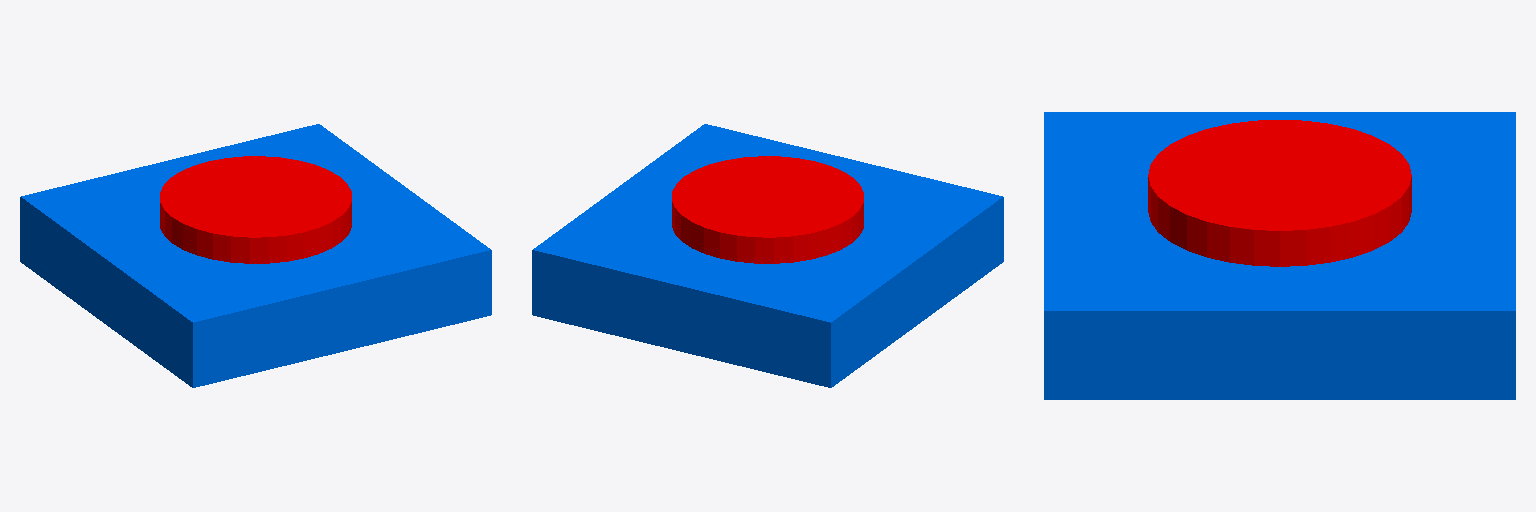
The robot description file, URDF, robot "blue_button":
<?xml version="1.0"?>
<robot name="blue_button">
    <link name="robot_base">
        <visual name="push_buttons_target2">
            <origin xyz="0 0 0.010500" rpy="-3.141593 3.141593 -3.141593" />
            <geometry>
                <box size="0.100000 0.100000 0.021000" />
            </geometry>
            <material name="robot_base_material">
                <color rgba="0.000000 0.500000 1.000000 1.0" />
            </material>
        </visual>
    </link>
    <joint type="prismatic" name="blue_joint">
        <axis xyz="0 0 1" />
        <limit velocity="10.0" upper="0.002" effort="250.0" lower="-0.008" />
        <parent link="robot_base" />
        <child link="blue_top" />
        <origin xyz="0 0 -0.010519" rpy="-3.141593 3.141593 -3.141593" />
    </joint>
    <link name="blue_top">
        <inertial>
            <origin rpy="-3.141593 3.141593 -3.141593" xyz="0.000000 0.000000 0.037950" />
            <inertia ixx="1.3361750093067e-05" ixy="-1.7668542498804e-21" izz="2.6688580837659e-05" iyz="-1.9742168545736e-13" iyy="1.3361752087318e-05" ixz="9.9680512074237e-14" />
            <mass value="0.068521969020367" />
        </inertial>
        <collision name="target_button_topPlate2">
            <origin xyz="0.000000 0.000000 0.037950" rpy="-3.141593 3.141593 -3.141593" />
            <geometry>
                <cylinder radius="0.028000000864267" length="0.0017499999376014" />
            </geometry>
        </collision>
        <visual name="target_button_topPlate2">
            <origin xyz="0.000000 0.000000 0.037950" rpy="-3.141593 3.141593 -3.141593" />
            <geometry>
                <cylinder radius="0.028000000864267" length="0.0017499999376014" />
            </geometry>
            <material name="target_button_topPlate2_material">
                <color rgba="1.000000 0.000000 0.000000 1.0" />
            </material>
        </visual>
        <visual name="target_button_wrap2">
            <origin xyz="0.000000 0.000000 0.034919" rpy="-3.141593 3.141593 -3.141593" />
            <geometry>
                <cylinder radius="0.028000000864267" length="0.0099999997764826" />
            </geometry>
            <material name="target_button_wrap2_material">
                <color rgba="1.000000 0.000000 0.000000 1.0" />
            </material>
        </visual>
    </link>
</robot>

--- Facts derived from the render (not from the file) ---
Views: 3 orthographic renders of the robot side by side, from view 1: azimuth 30°, elevation 25°; view 2: azimuth 150°, elevation 25°; view 3: azimuth 270°, elevation 25°.
Robot: blue_button — 2 links, 1 joints (1 prismatic); root link robot_base; default pose: every joint at zero.
Visible links, largest first — view 1: robot_base, blue_top; view 2: robot_base, blue_top; view 3: robot_base, blue_top.
Link boxes in pixels (x1,y1,x2,y2): robot_base: (20, 124, 491, 387); blue_top: (160, 156, 351, 263); robot_base: (532, 124, 1003, 387); blue_top: (672, 156, 863, 263); robot_base: (1044, 112, 1515, 399); blue_top: (1148, 120, 1411, 266).
Size in the robot's own frame: 0.1 by 0.1 by 0.0294 metres.
Geometry: primitives only (box / cylinder / sphere), no mesh files.